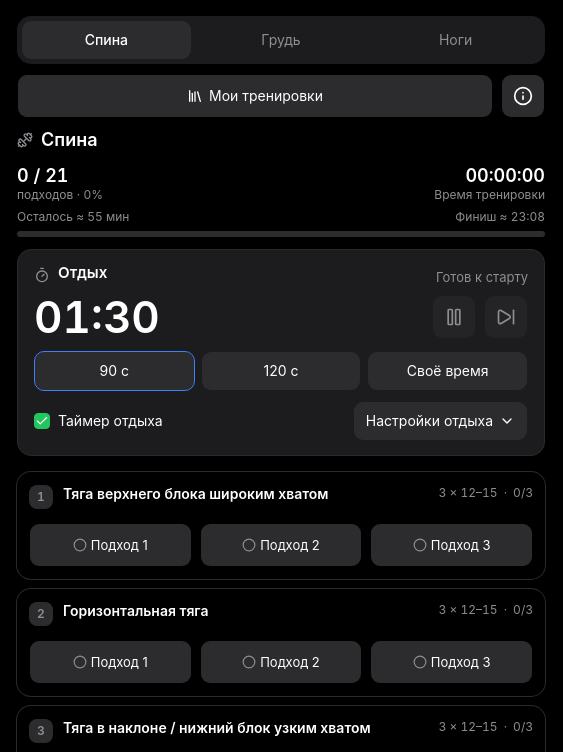
it: marking sets › updates aria-pressed, the per-exercise count and overall progress
The width and height of the screenshot is (563, 752).
Click the button with aria-label "подход 1:" at coordinates (110, 545), box [29,523,192,567]
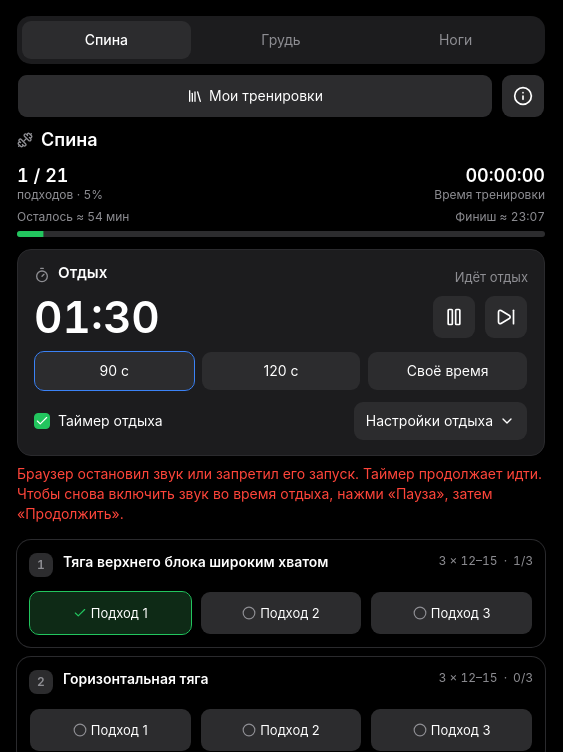
Result: the text "1 / 21" is shown at [17,165,68,186]
Result: the text "5%" is shown at [84,187,103,202]
Result: the text "1/3" is shown at [513,553,533,569]
